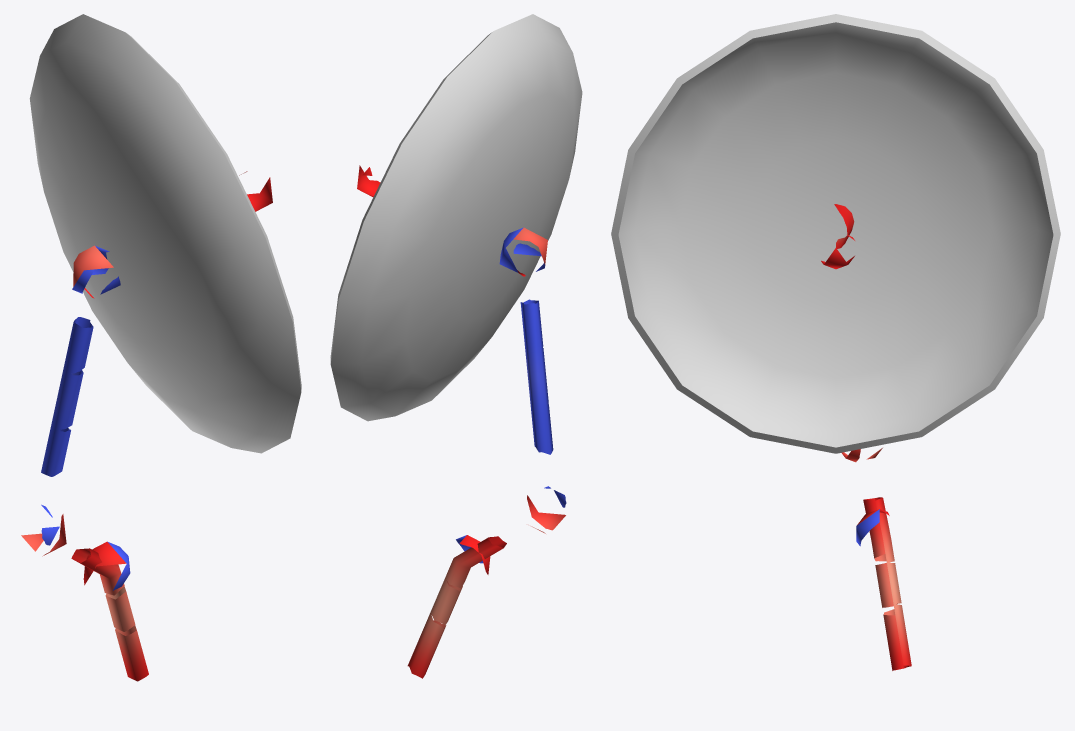
File: SM_SatelliteDish.fbx
3 renders of one model, left to right at view 1: azimuth 30°, elevation 25°; view 2: azimuth 150°, elevation 25°; view 3: azimuth 270°, elevation 25°, orthographic. The views are drawn at different scales.
Parts seen in each view (by area): view 1: SM_SatelliteDish; view 2: SM_SatelliteDish; view 3: SM_SatelliteDish.
Part boxes in pixels (bbox=[...]): SM_SatelliteDish: bbox=[21, 14, 301, 681]; SM_SatelliteDish: bbox=[330, 14, 582, 678]; SM_SatelliteDish: bbox=[611, 14, 1060, 670].
Size of the model in its own units: 115 by 332 by 200.
